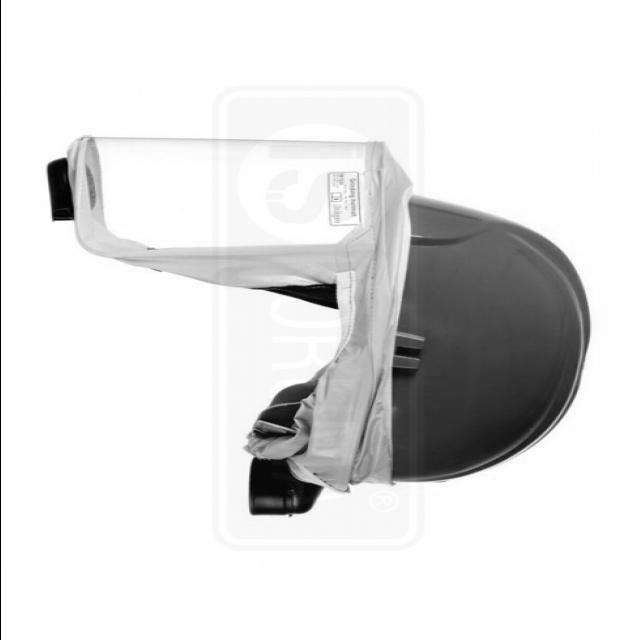construction helmet: (248, 192, 589, 493)
